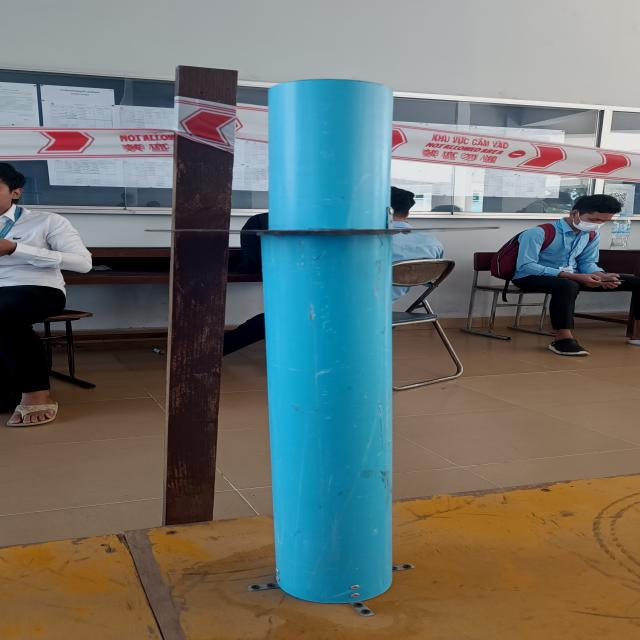pole: (143, 72, 498, 372)
